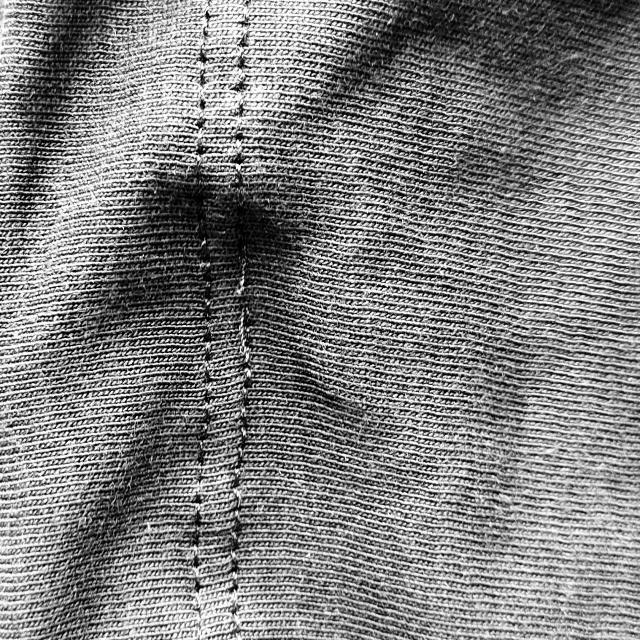Sewing_error: (217, 239, 267, 393)
